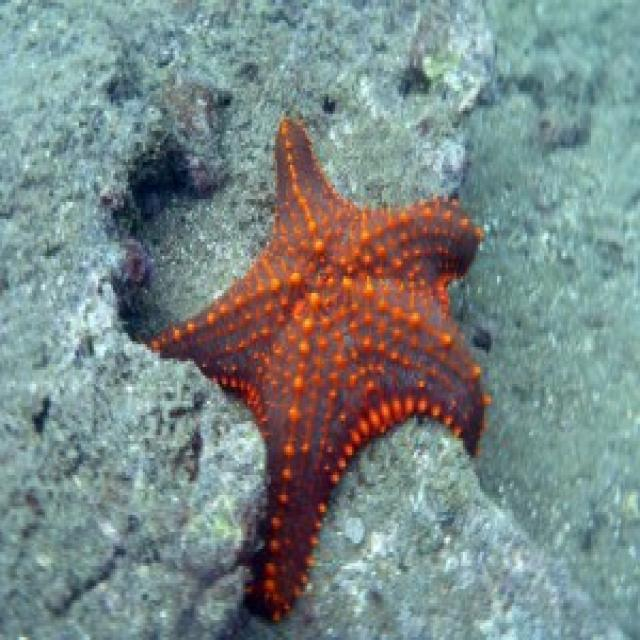Starfish: (145, 106, 496, 617)
